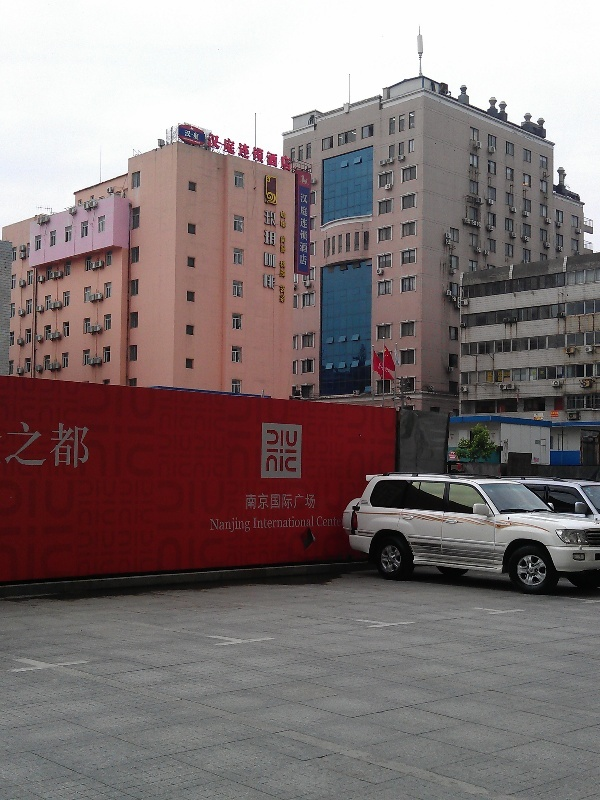text: (17, 420, 32, 469), (33, 420, 48, 469), (49, 420, 64, 469), (65, 420, 80, 469), (81, 420, 93, 469), (209, 133, 224, 172), (225, 133, 240, 172), (241, 133, 256, 172), (257, 133, 272, 172), (273, 133, 288, 172), (265, 210, 272, 291), (5, 420, 16, 469), (305, 193, 309, 267), (257, 492, 272, 511), (273, 492, 288, 511), (289, 492, 304, 511), (225, 517, 240, 534), (305, 492, 318, 511), (273, 210, 276, 291), (210, 517, 224, 534), (244, 492, 256, 511), (301, 193, 304, 267), (257, 515, 272, 529), (273, 515, 288, 529), (289, 515, 304, 529), (321, 516, 336, 528), (241, 517, 251, 534), (280, 285, 288, 304), (280, 236, 288, 254), (305, 515, 315, 529), (280, 261, 288, 278), (289, 133, 292, 172), (282, 211, 288, 229), (185, 129, 192, 141), (193, 129, 200, 141), (337, 516, 344, 528), (253, 515, 256, 529), (317, 516, 320, 528)
